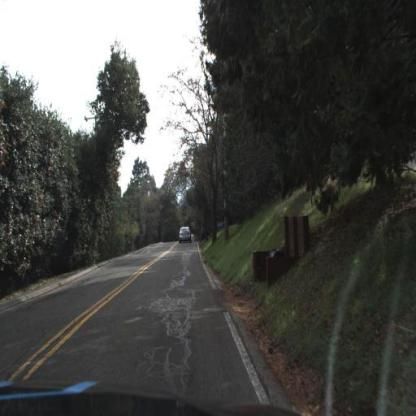car: (180, 225, 195, 244)
